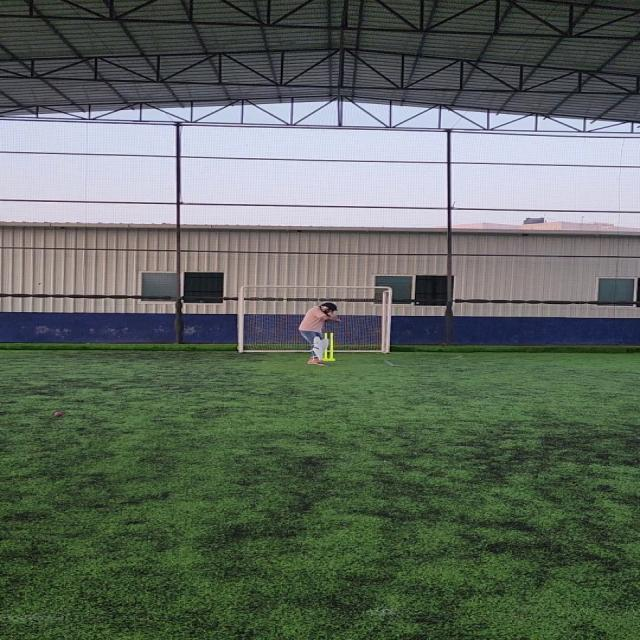stump: (324, 331, 336, 361)
